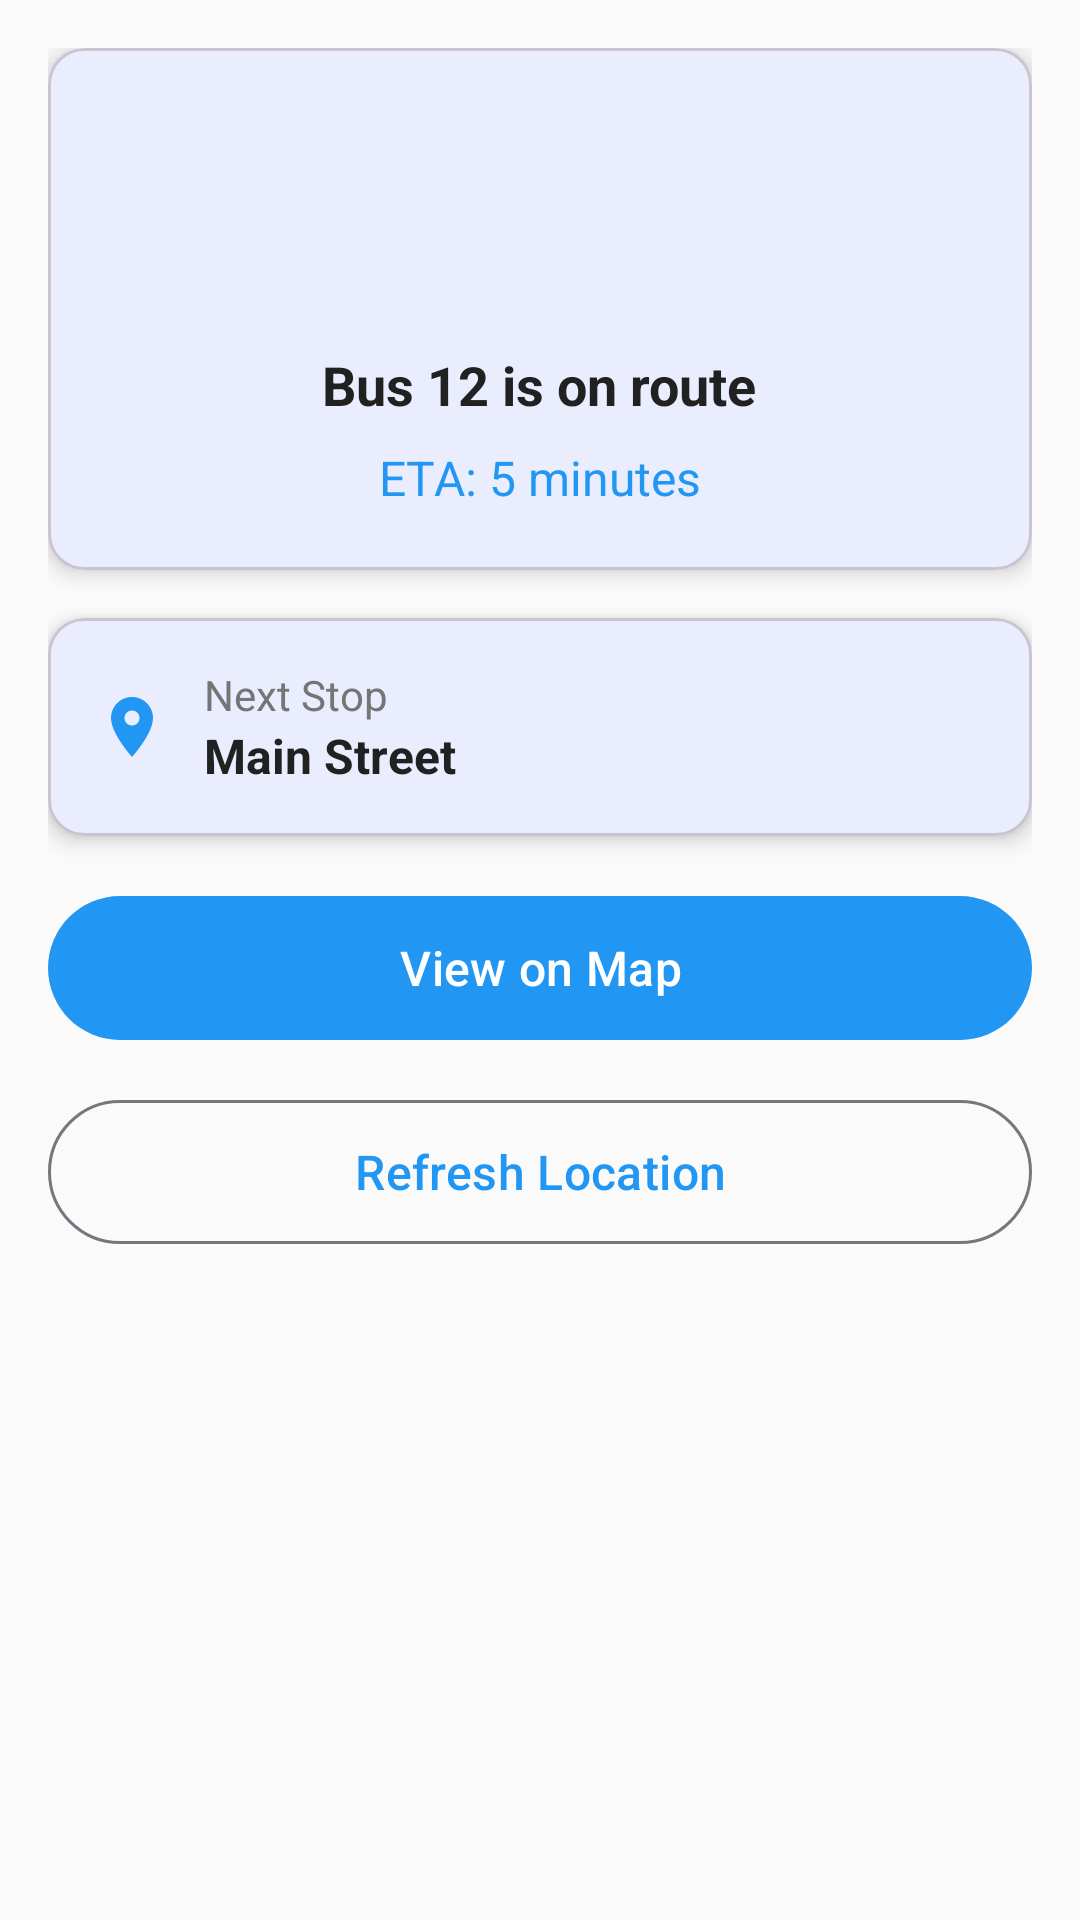

Icon bounding boxes for this 1080px x 1920px phone screenshot, format [x1, y1, x2, y2]:
Location: [111, 697, 153, 757]
